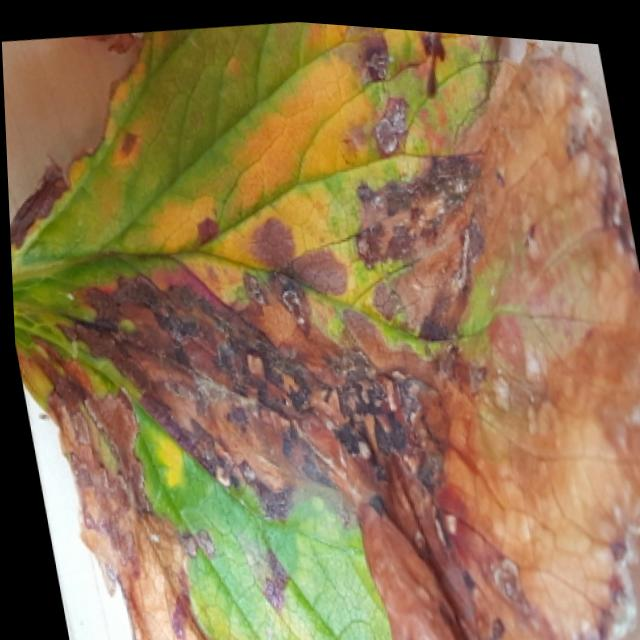Angular Leafspot: (8, 17, 640, 640)
